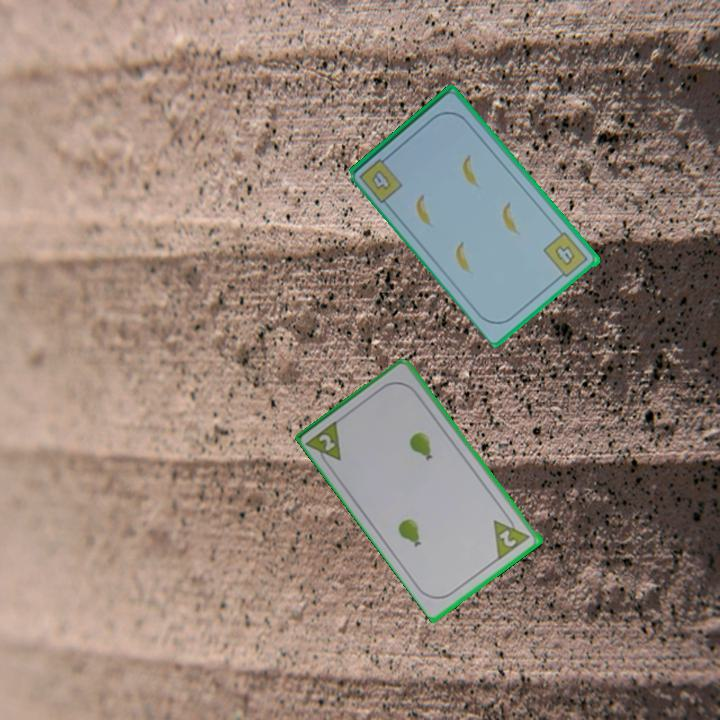2p: (496, 526, 520, 550), (316, 430, 339, 454)
4b: (540, 228, 592, 283), (356, 151, 406, 206)
